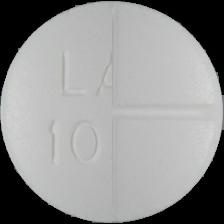42291-103: (0, 0, 224, 224)
